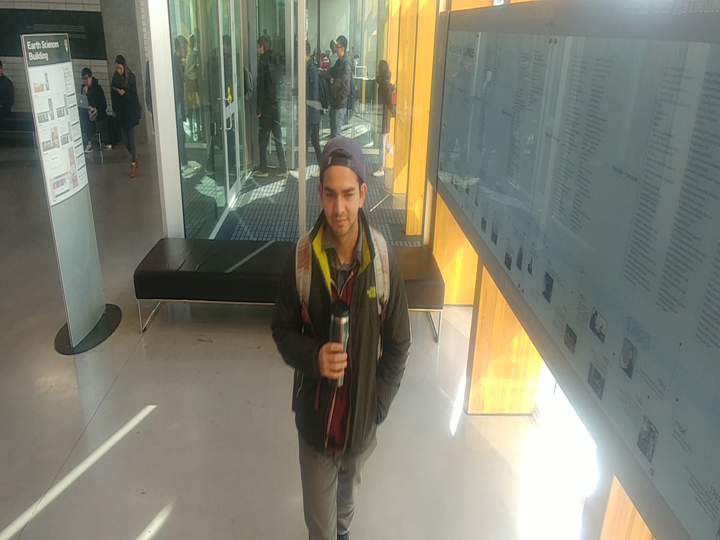face: (307, 134, 373, 241), (328, 31, 356, 61), (110, 52, 136, 81), (372, 56, 393, 86), (251, 31, 273, 58), (77, 64, 97, 92)
human: (266, 131, 416, 540), (251, 28, 293, 184), (105, 51, 146, 184), (323, 31, 362, 140), (74, 61, 116, 160), (368, 58, 398, 182)
